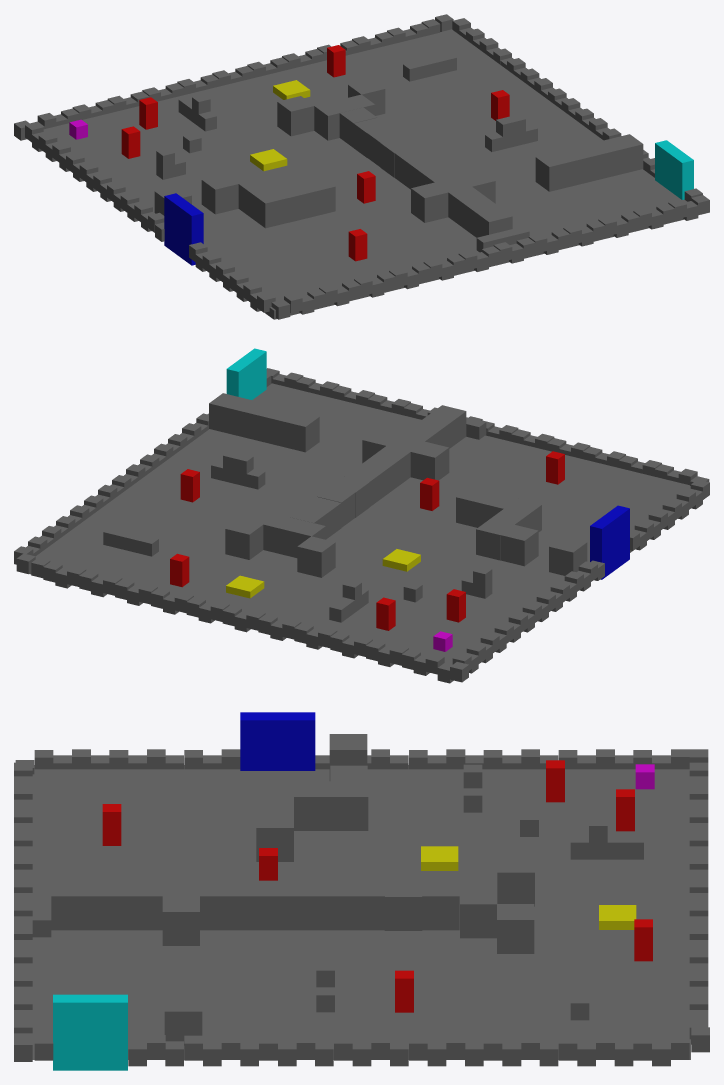
File: Level1_b9.fbx
The picture shows the model from 3 angles, top to bottom: view 1: azimuth 30°, elevation 25°; view 2: azimuth 150°, elevation 25°; view 3: azimuth 270°, elevation 25°; orthographic projection. The views are drawn at different scales.
Visible parts, largest first — view 1: pCube137, pCube180, pCube179, pCube209, pCube217, pCube218, pCube212, pCube216, pCube213, pCube210, pCube215; view 2: pCube137, pCube180, pCube179, pCube210, pCube209, pCube215, pCube216, pCube217, pCube212, pCube213, pCube218; view 3: pCube137, pCube179, pCube180, pCube209, pCube210, pCube218, pCube212, pCube215, pCube216, pCube217, pCube213.
Boxes of the visible parts, x1,y1,x2,y2 form: pCube137: (14, 14, 709, 319); pCube180: (164, 193, 203, 265); pCube179: (655, 140, 693, 199); pCube209: (250, 149, 287, 171); pCube217: (121, 126, 140, 158); pCube218: (348, 229, 367, 261); pCube212: (139, 97, 157, 129); pCube216: (327, 45, 345, 77); pCube213: (357, 171, 375, 203); pCube210: (273, 80, 310, 99); pCube215: (491, 90, 509, 120); pCube137: (14, 368, 709, 683); pCube180: (590, 505, 629, 579); pCube179: (226, 348, 266, 399); pCube210: (226, 575, 264, 598); pCube209: (382, 549, 420, 571); pCube215: (180, 469, 199, 502); pCube216: (170, 553, 189, 587); pCube217: (446, 589, 465, 622); pCube212: (376, 597, 395, 630); pCube213: (420, 477, 439, 510); pCube218: (546, 451, 564, 484); pCube137: (14, 734, 709, 1066); pCube179: (53, 994, 127, 1070); pCube180: (240, 712, 315, 770); pCube209: (421, 846, 458, 870); pCube210: (599, 905, 636, 929); pCube218: (102, 804, 121, 845); pCube212: (616, 789, 634, 831); pCube215: (395, 970, 413, 1012); pCube216: (634, 919, 652, 961); pCube217: (546, 760, 564, 802); pCube213: (259, 848, 277, 880).
Bounding box in the file's own units: 14.73 × 1.75 × 14.61.
